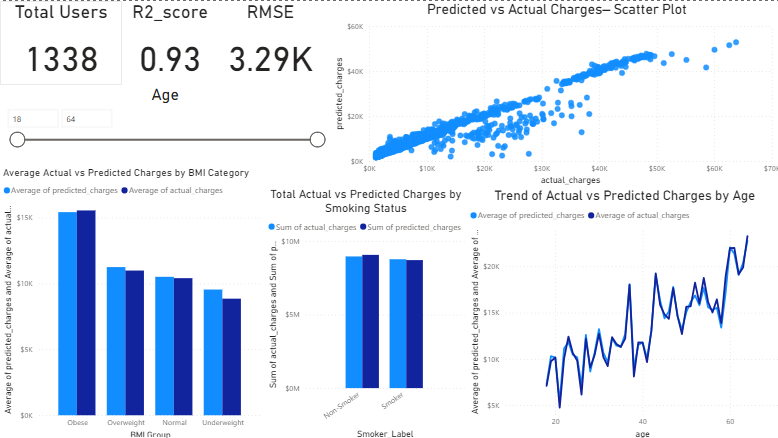

The dashboard page shown, as its layout file describes it:
{"tool":"powerbi","page":{"name":"Dashboard","canvas":[1280,720],"ordinal":0},"visuals":[{"type":"clusteredColumnChart","title":"Total Actual vs Predicted Charges by Smoking Status","fields":{"Category":["insurance_predictions_all.Smoker_Label"],"Y":["Sum(insurance_predictions_all.actual_charges)","Sum(insurance_predictions_all.predicted_charges)"]},"box":[432.7,305.5,330.9,414.5],"z":0},{"type":"clusteredColumnChart","title":"Average Actual vs Predicted Charges by BMI Category","fields":{"Category":["insurance_predictions_all.BMI Group"],"Y":["Avg(insurance_predictions_all.predicted_charges)","Avg(insurance_predictions_all.actual_charges)"]},"box":[0,269.1,432.7,450.9],"z":1000},{"type":"lineChart","title":"Trend of Actual vs Predicted Charges by Age","fields":{"Category":["insurance_predictions_all.age"],"Y":["Avg(insurance_predictions_all.predicted_charges)","Avg(insurance_predictions_all.actual_charges)"]},"box":[763.6,305.5,516.4,414.5],"z":2000},{"type":"scatterChart","title":"Predicted vs Actual Charges– Scatter Plot","fields":{"X":["insurance_predictions_all.actual_charges"],"Y":["insurance_predictions_all.predicted_charges"]},"box":[540,0,740,305.5],"z":3000},{"type":"card","title":"R2_score","fields":{"Values":["insurance_predictions_all.R2_score"]},"box":[200,0,156.4,138.2],"z":4000},{"type":"card","title":"RMSE","fields":{"Values":["insurance_predictions_all.RMSE_"]},"box":[345.5,0,194.5,138.2],"z":5000},{"type":"card","title":"Total Users","fields":{"Values":["CountNonNull(insurance_predictions_all.actual_charges)"]},"box":[0,0,200,138.2],"z":7000},{"type":"slicer","title":"Age","fields":{"Values":["insurance_predictions_all.age"]},"box":[0,138.2,540,130.9],"z":8000}]}

Visuals, with their boxes in screenshot pixels (x1, y1, x2, y2), scaled from the page's 1280x720 canvas onto the 778x438 screenshot:
"Total Actual vs Predicted Charges by Smoking Status" clusteredColumnChart: rect(263, 186, 464, 437)
"Average Actual vs Predicted Charges by BMI Category" clusteredColumnChart: rect(0, 164, 263, 437)
"Trend of Actual vs Predicted Charges by Age" lineChart: rect(464, 186, 777, 437)
"Predicted vs Actual Charges– Scatter Plot" scatterChart: rect(328, 0, 777, 186)
"R2_score" card: rect(122, 0, 217, 84)
"RMSE" card: rect(210, 0, 328, 84)
"Total Users" card: rect(0, 0, 122, 84)
"Age" slicer: rect(0, 84, 328, 164)
